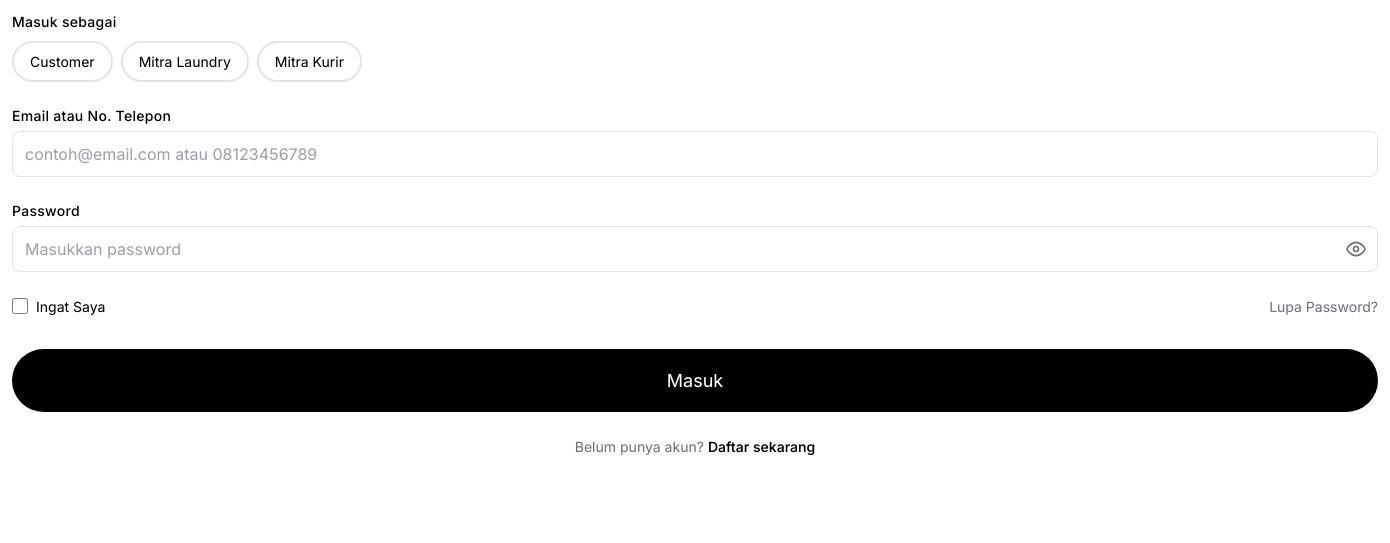
Test: LoginForm › error handling › displays error message when login fails with Error
The width and height of the screenshot is (1390, 543).
Click the button "Customer" at (62, 61), box [12, 41, 113, 82]
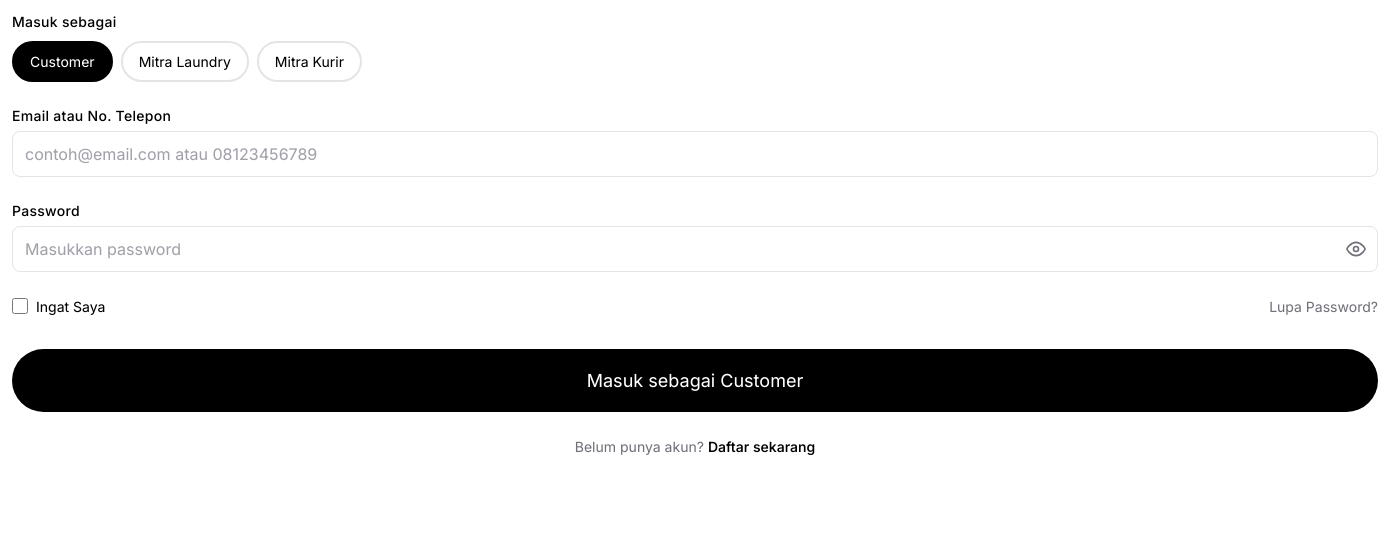
Type "test@email.com" into the field labelled "Email atau No. Telepon" at (695, 154), box [12, 131, 1378, 177]
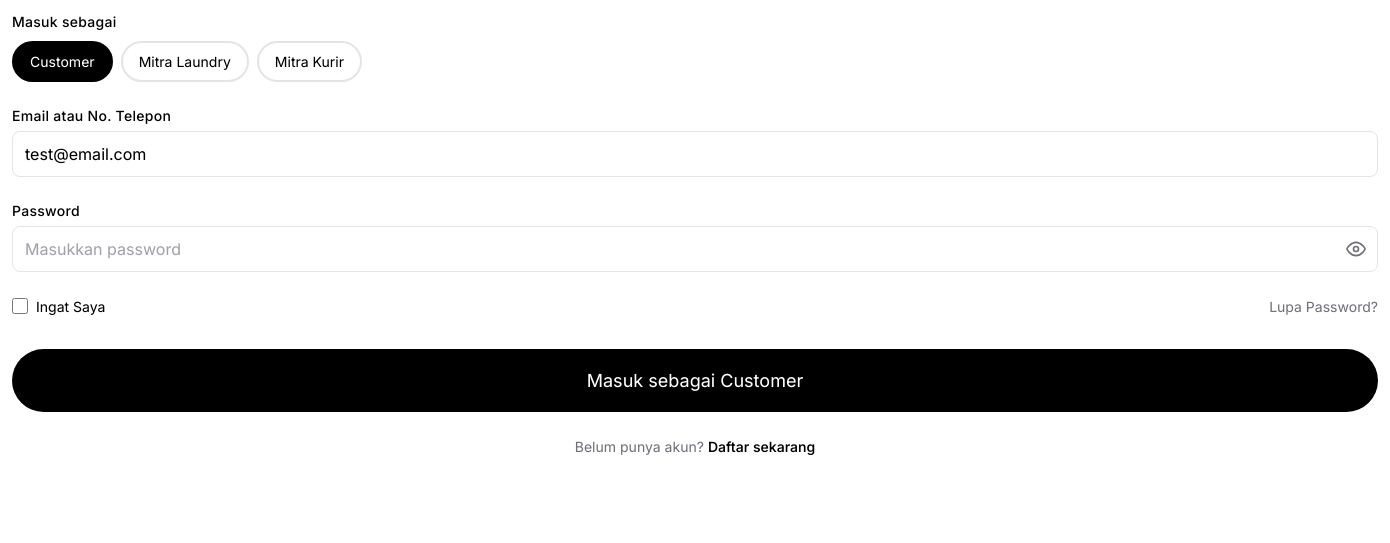
Type "wrongpassword" into the password field labelled "Password" at (695, 249), box [12, 226, 1378, 272]
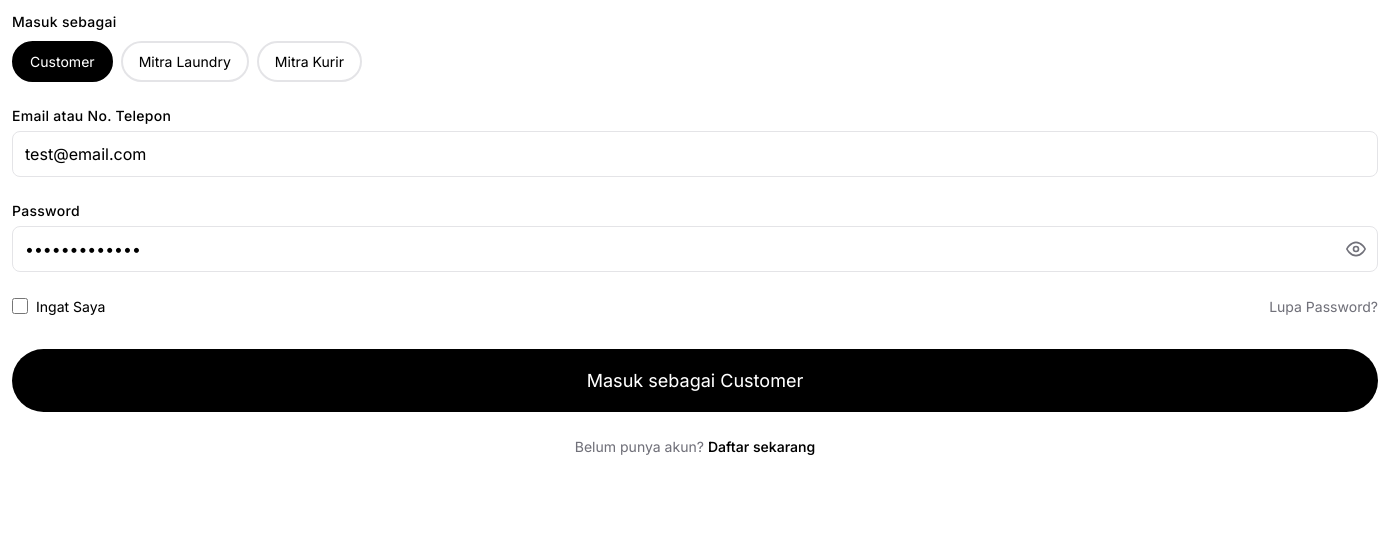
Click the button "Masuk sebagai Customer" at (695, 380), box [12, 349, 1378, 412]
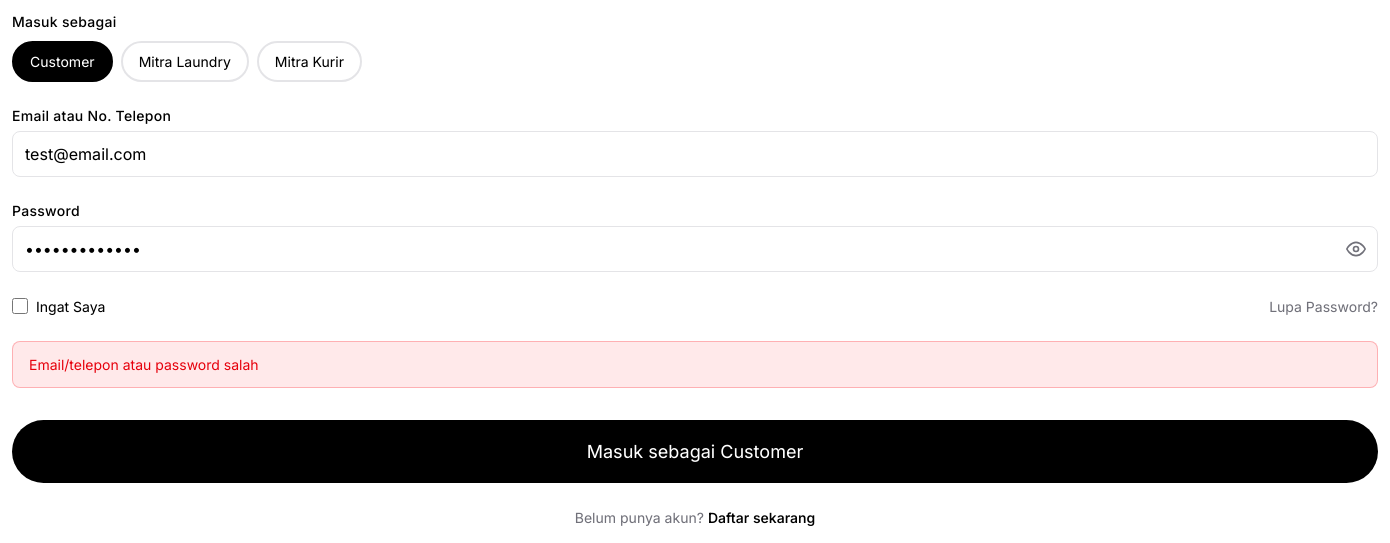
Expected: the text "Email/telepon atau password salah" is shown, [12, 341, 1378, 388]
